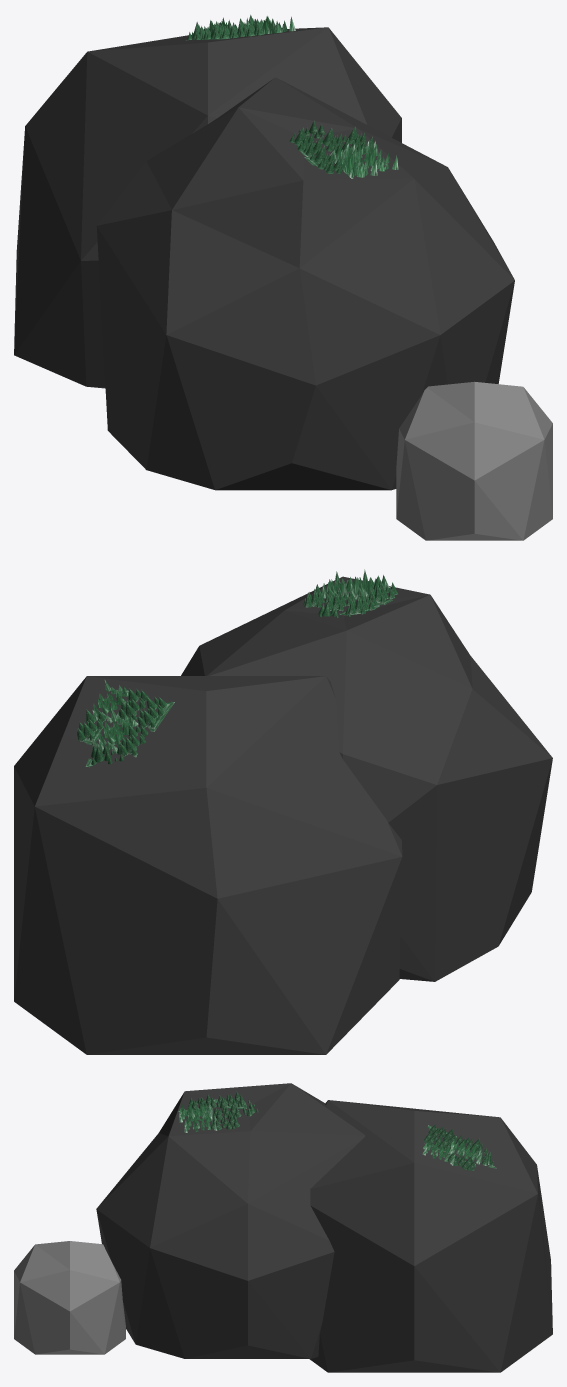
The model's file is stein.FBX.
3 views of the same model, one above another, from view 1: azimuth 30°, elevation 25°; view 2: azimuth 150°, elevation 25°; view 3: azimuth 270°, elevation 25° (orthographic). The views are drawn at different scales.
Parts seen in each view (by area): view 1: GeoSphere003, GeoSphere002, Box001; view 2: GeoSphere003, großer Stein, Cone021, kleiner Stein, Cone019, Box001; view 3: GeoSphere003, GeoSphere002, Box001, großer Stein.
Boxes of the visible parts, x1,y1,x2,y2 form: GeoSphere003: (14, 27, 514, 490); GeoSphere002: (396, 381, 552, 540); Box001: (330, 143, 377, 178); GeoSphere003: (14, 576, 552, 1054); großer Stein: (92, 708, 138, 753); Cone021: (138, 696, 174, 731); kleiner Stein: (92, 680, 128, 723); Cone019: (77, 709, 106, 744); Box001: (342, 569, 390, 600); GeoSphere003: (96, 1083, 552, 1372); GeoSphere002: (14, 1241, 125, 1354); Box001: (178, 1101, 212, 1122); großer Stein: (448, 1138, 481, 1164).
Bounding box in the file's own units: 49.24 × 39.67 × 82.6.
Materials: 3 (1 with a texture image).
